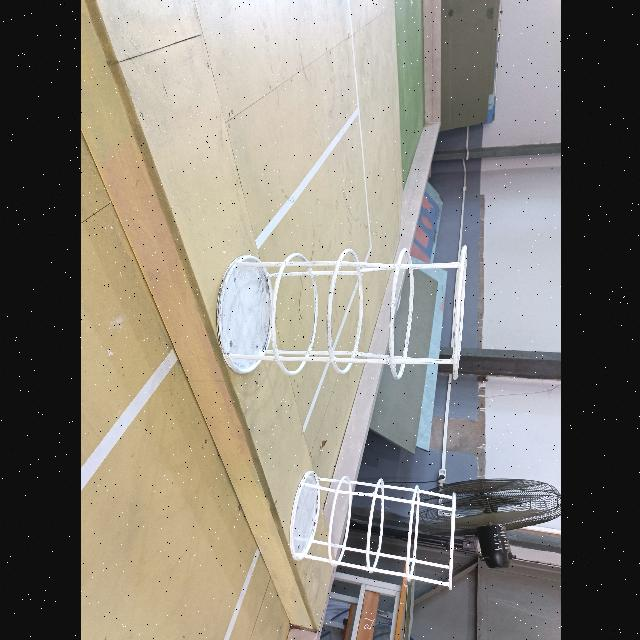S: (214, 243, 467, 383), (286, 469, 457, 592)
